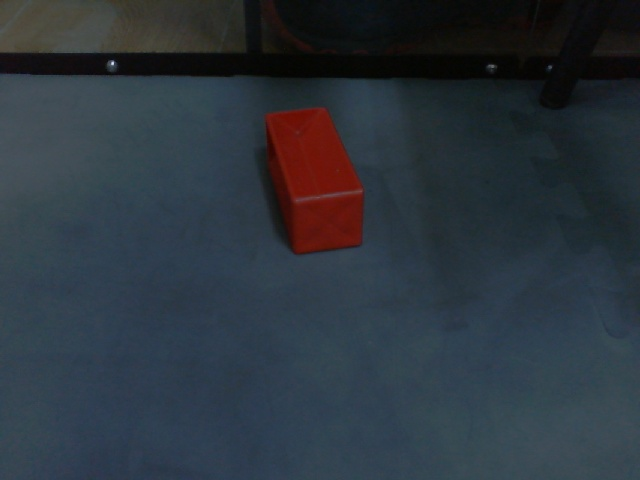RedSample: (262, 105, 367, 257)
